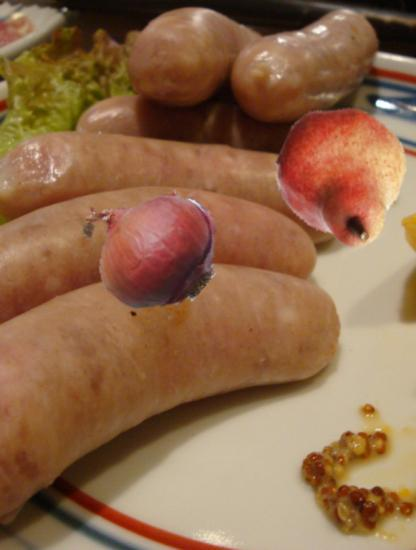Onion: (81, 174, 221, 314)
Pear: (273, 105, 408, 240)
